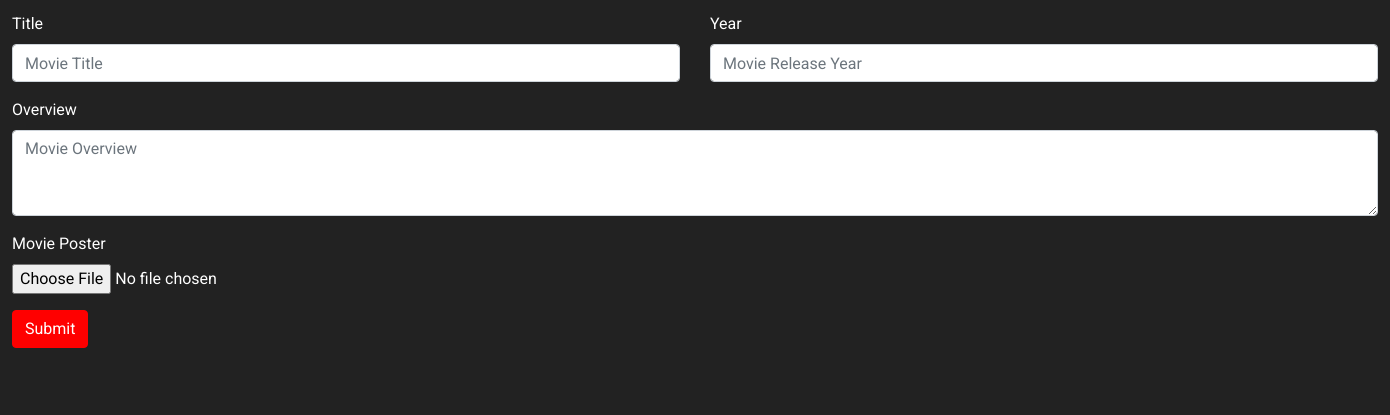
Scenario: Add Movie Form Component › Should validate form fields
Click the button "Submit": (50,329) [12, 310, 88, 348]
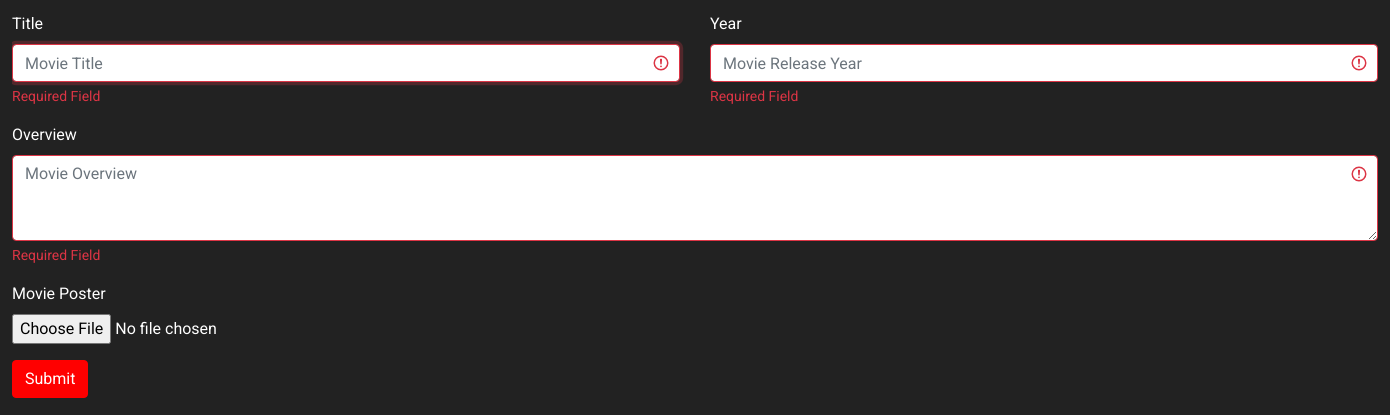
Now the number of messages is 3, box [12, 88, 100, 104]; [710, 88, 798, 104]; [12, 247, 100, 263]
